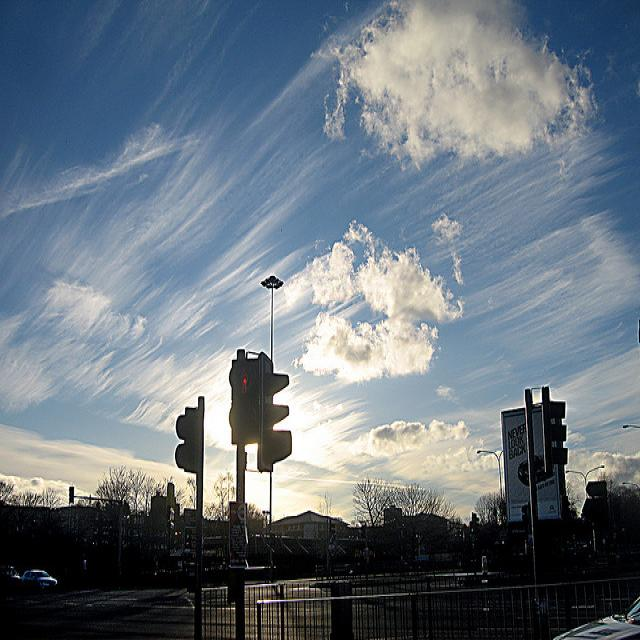Vehicle: (558, 594, 640, 640), (19, 569, 57, 589)
